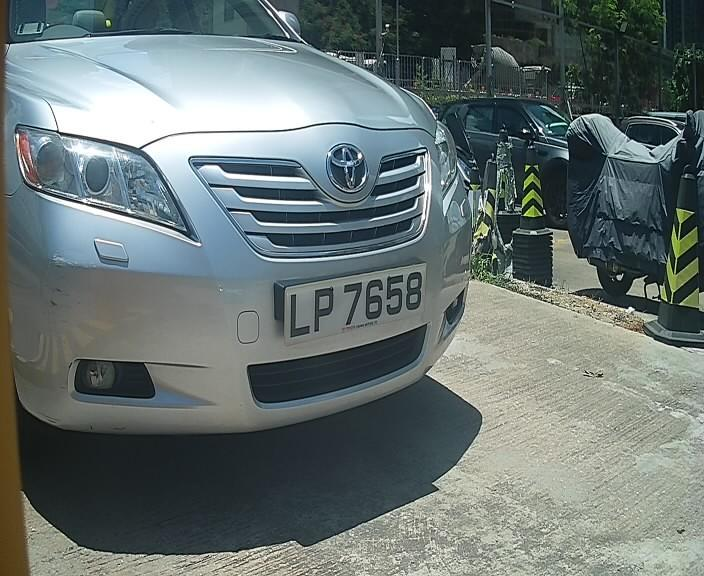License Plate: (280, 258, 431, 355)
